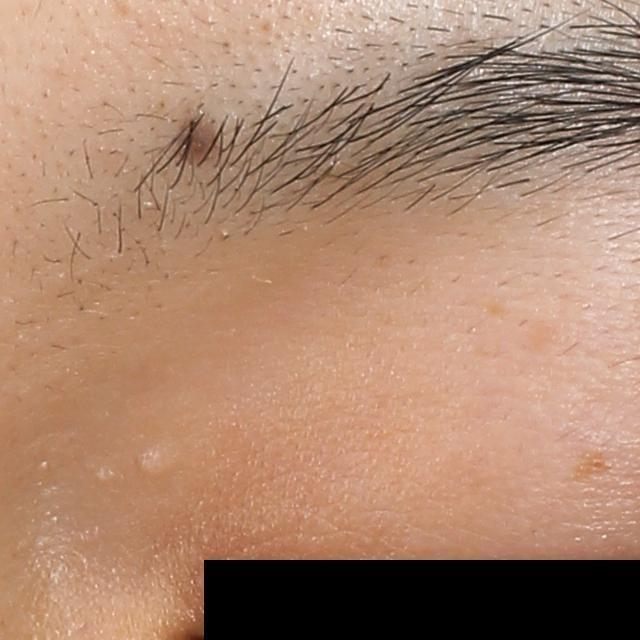melasma: (563, 452, 627, 485)
other: (91, 462, 131, 489)
